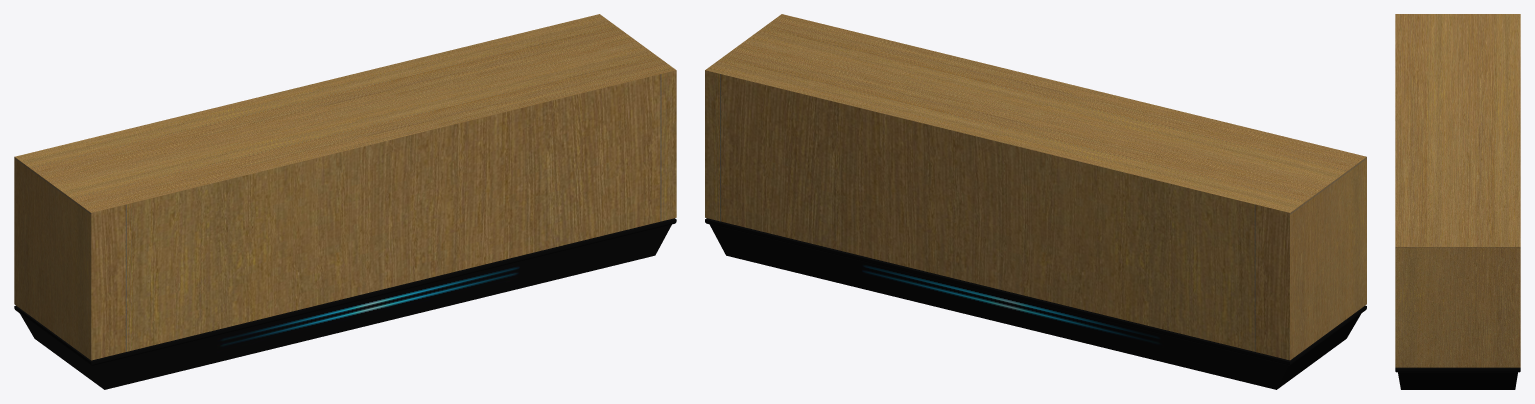
File: Block-Display-FTUE.fbx
3 renders of one model, left to right at view 1: azimuth 30°, elevation 25°; view 2: azimuth 150°, elevation 25°; view 3: azimuth 270°, elevation 25°, orthographic. The views are drawn at different scales.
Parts seen in each view (by area): view 1: Mesh4 Group_19 Model; view 2: Mesh4 Group_19 Model; view 3: Mesh4 Group_19 Model.
Boxes of the visible parts, box(x1,y1,x2,y2) form: Mesh4 Group_19 Model: box(14, 14, 676, 389); Mesh4 Group_19 Model: box(705, 14, 1366, 389); Mesh4 Group_19 Model: box(1395, 14, 1520, 389).
Bounding box in the file's own units: 220 × 65.95 × 50.
Materials: 2 (2 with a texture image).
